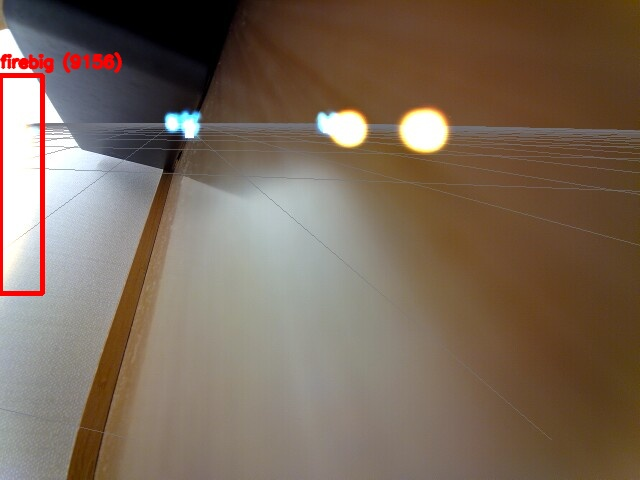firebig: (0, 75, 42, 293)
